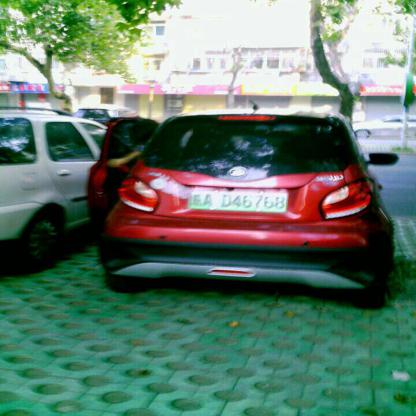lp: (190, 192, 286, 212)
